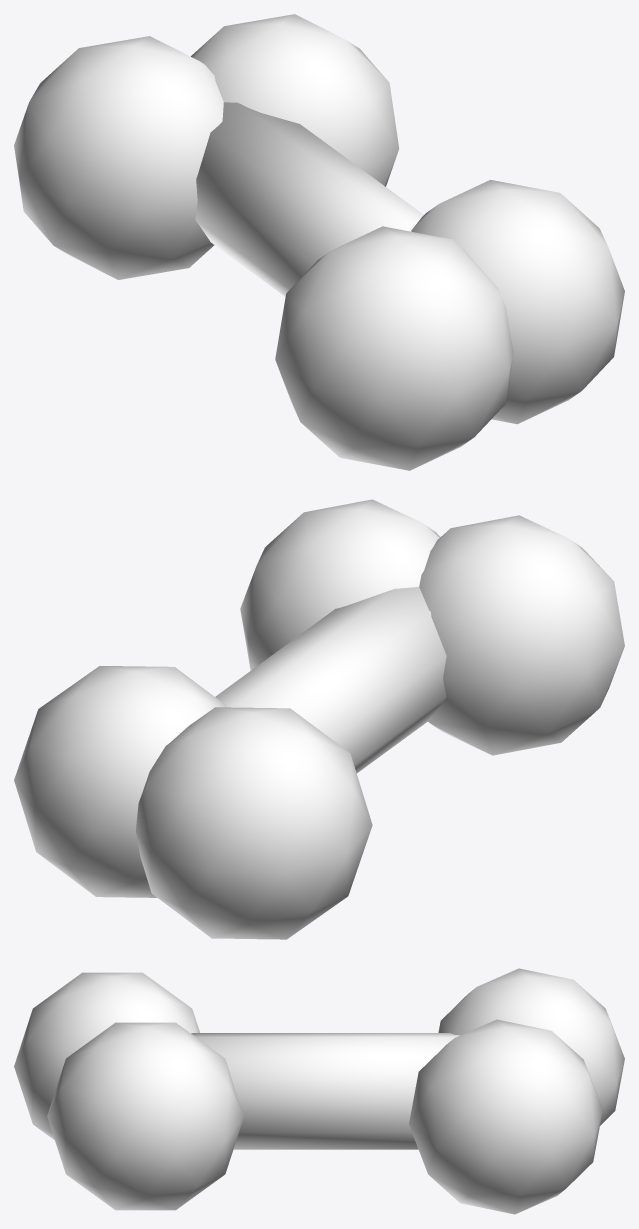
Rendered from Bones_B.fbx.
3 views of the same model, one above another, from view 1: azimuth 30°, elevation 25°; view 2: azimuth 150°, elevation 25°; view 3: azimuth 270°, elevation 25° (orthographic). The views are drawn at different scales.
Visible parts, largest first — view 1: Bones_B; view 2: Bones_B; view 3: Bones_B.
Part boxes in pixels (x1=…): Bones_B: x1=14, y1=14, x2=624, y2=470; Bones_B: x1=14, y1=499, x2=624, y2=939; Bones_B: x1=14, y1=968, x2=624, y2=1214.
Size of the model in its own units: 61.88 by 38.6 by 120.
